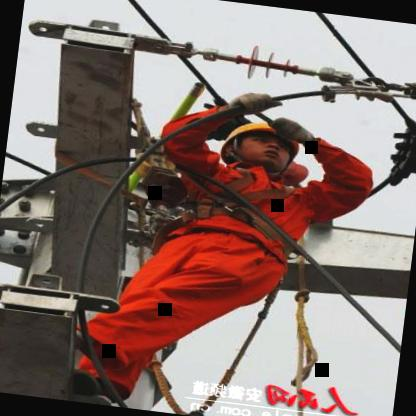helmet: (201, 106, 314, 178)
